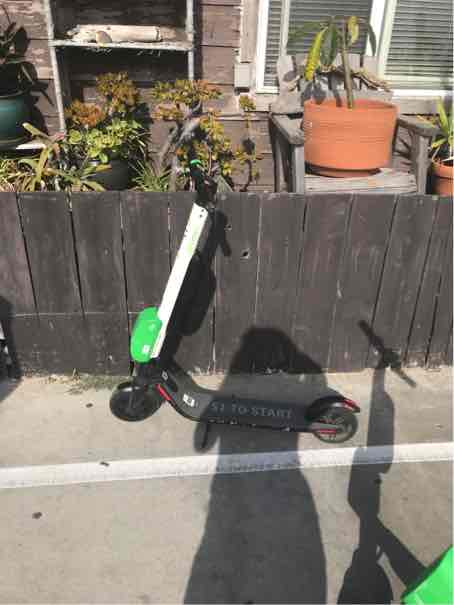scooter: (98, 142, 367, 451)
